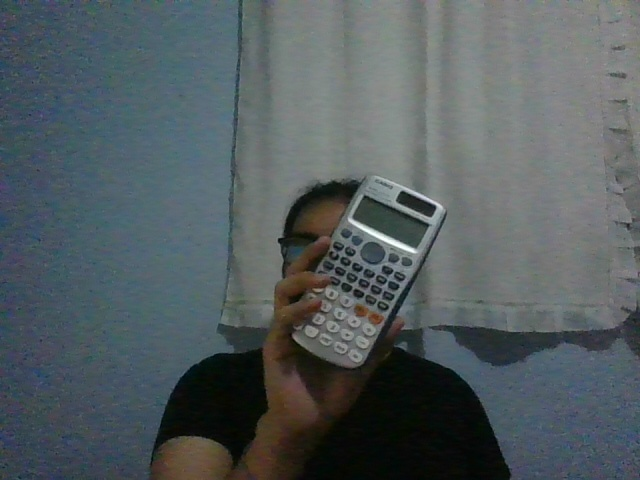calculadora: (291, 174, 447, 369)
